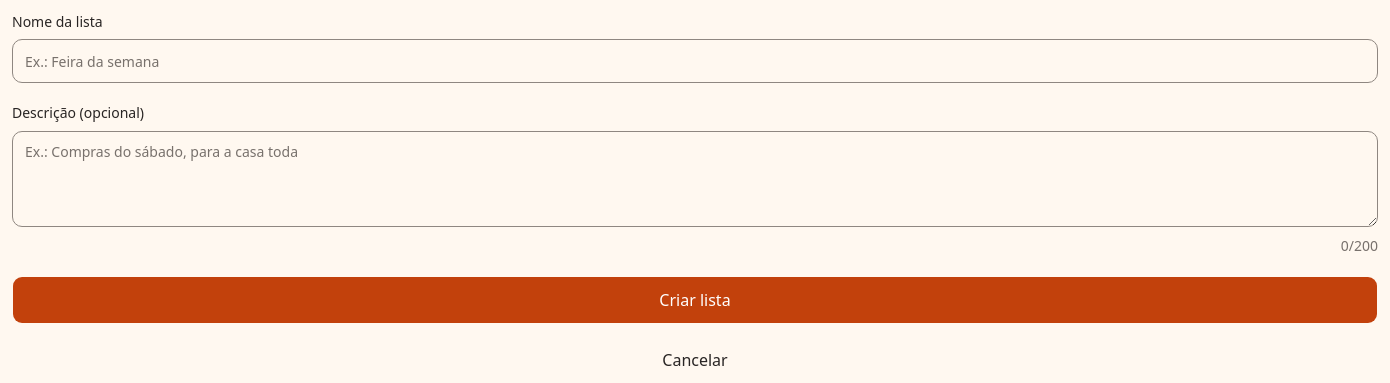
Test: NewListForm › counts the description characters
The image size is (1390, 383).
Expected: the text "0/200" is shown, 1341,236 -> 1378,254
Step 1. Type "abc" into the text box labelled "Descrição (opcional)" → (695, 178), box 12,130 -> 1378,226
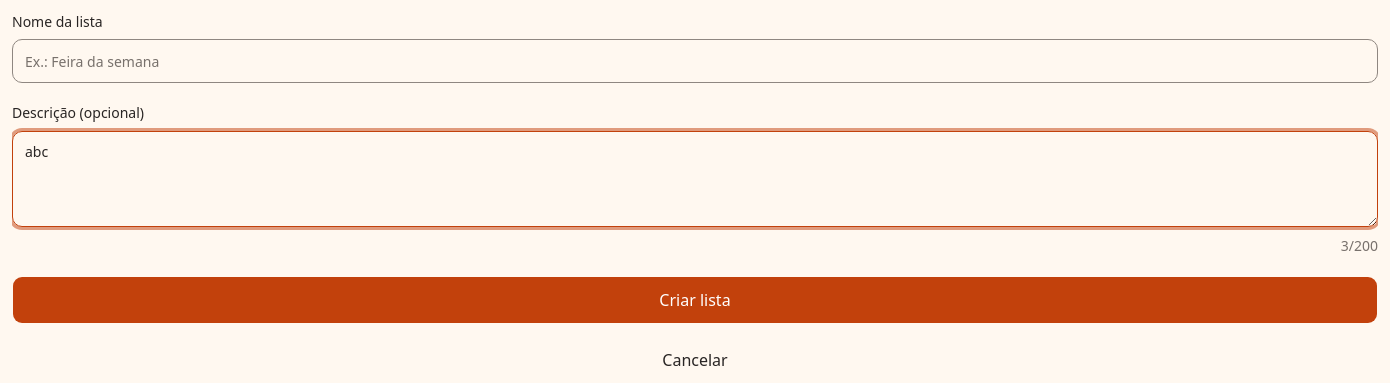
Result: the text "3/200" is shown at 1341,236 -> 1378,254
